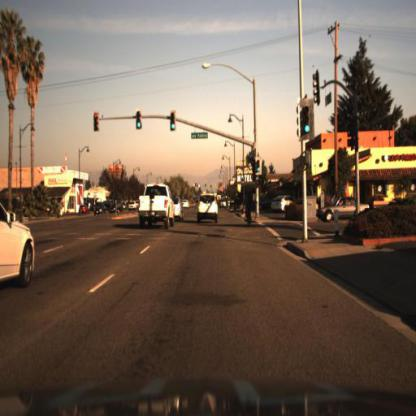biker: (241, 189, 254, 227), (242, 190, 252, 228)
car: (1, 183, 39, 295), (137, 185, 178, 231), (315, 195, 372, 222), (196, 192, 220, 226), (272, 194, 302, 213), (170, 195, 187, 226), (172, 195, 187, 224), (110, 202, 126, 219), (92, 205, 108, 220), (79, 203, 92, 218), (94, 204, 108, 217)
trafficLight-Green: (300, 102, 315, 143), (300, 102, 312, 147), (168, 107, 177, 133), (137, 108, 145, 135), (136, 108, 144, 133), (255, 158, 263, 174), (170, 113, 177, 131)
trafficLight-RedLeft: (93, 109, 102, 138), (92, 109, 99, 137)
